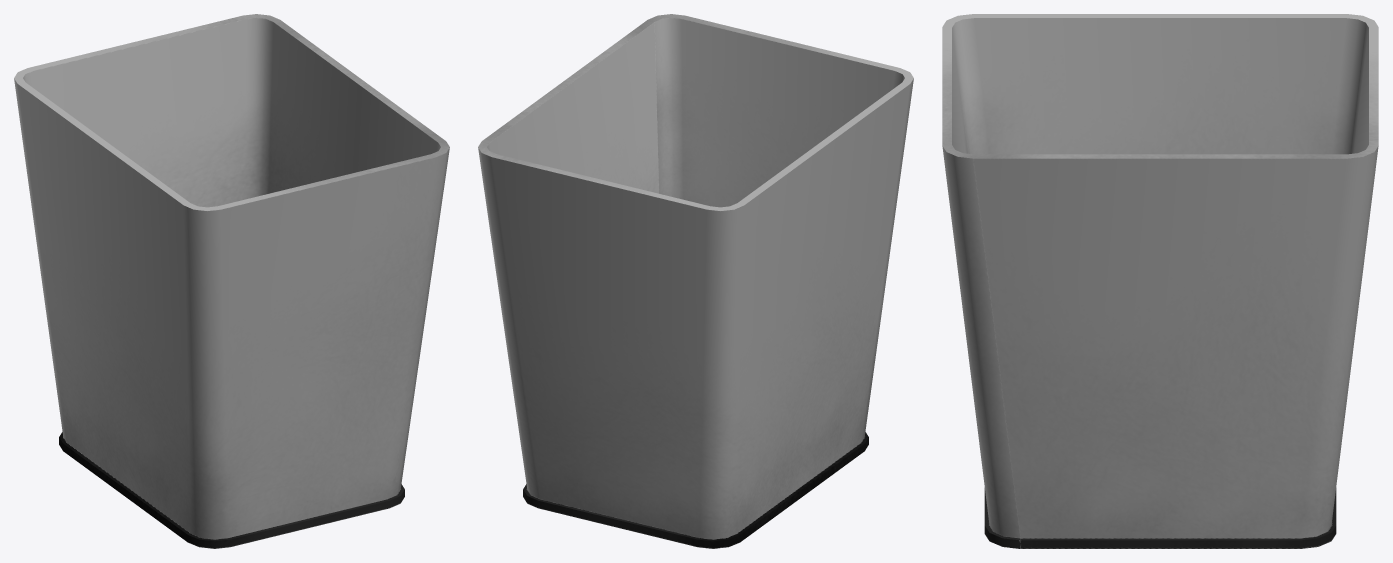
The model's file is Papelera.fbx.
3 renders of one model, left to right at view 1: azimuth 30°, elevation 25°; view 2: azimuth 150°, elevation 25°; view 3: azimuth 270°, elevation 25°, orthographic. The views are drawn at different scales.
Visible parts, largest first — view 1: Cube; view 2: Cube; view 3: Cube.
Boxes of the visible parts, x1,y1,x2,y2 form: Cube: (14,14,449,548); Cube: (478,14,913,548); Cube: (942,14,1378,548).
Bounding box in the file's own units: 22.61 × 29.47 × 28.84.
1 material, 1 textured.
